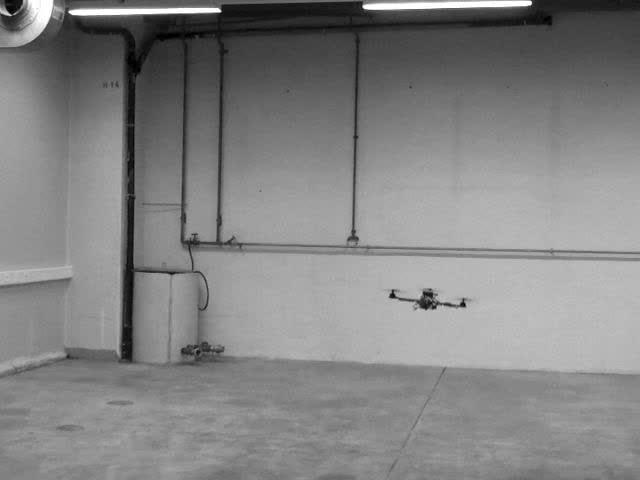drone: (385, 282, 475, 315)
